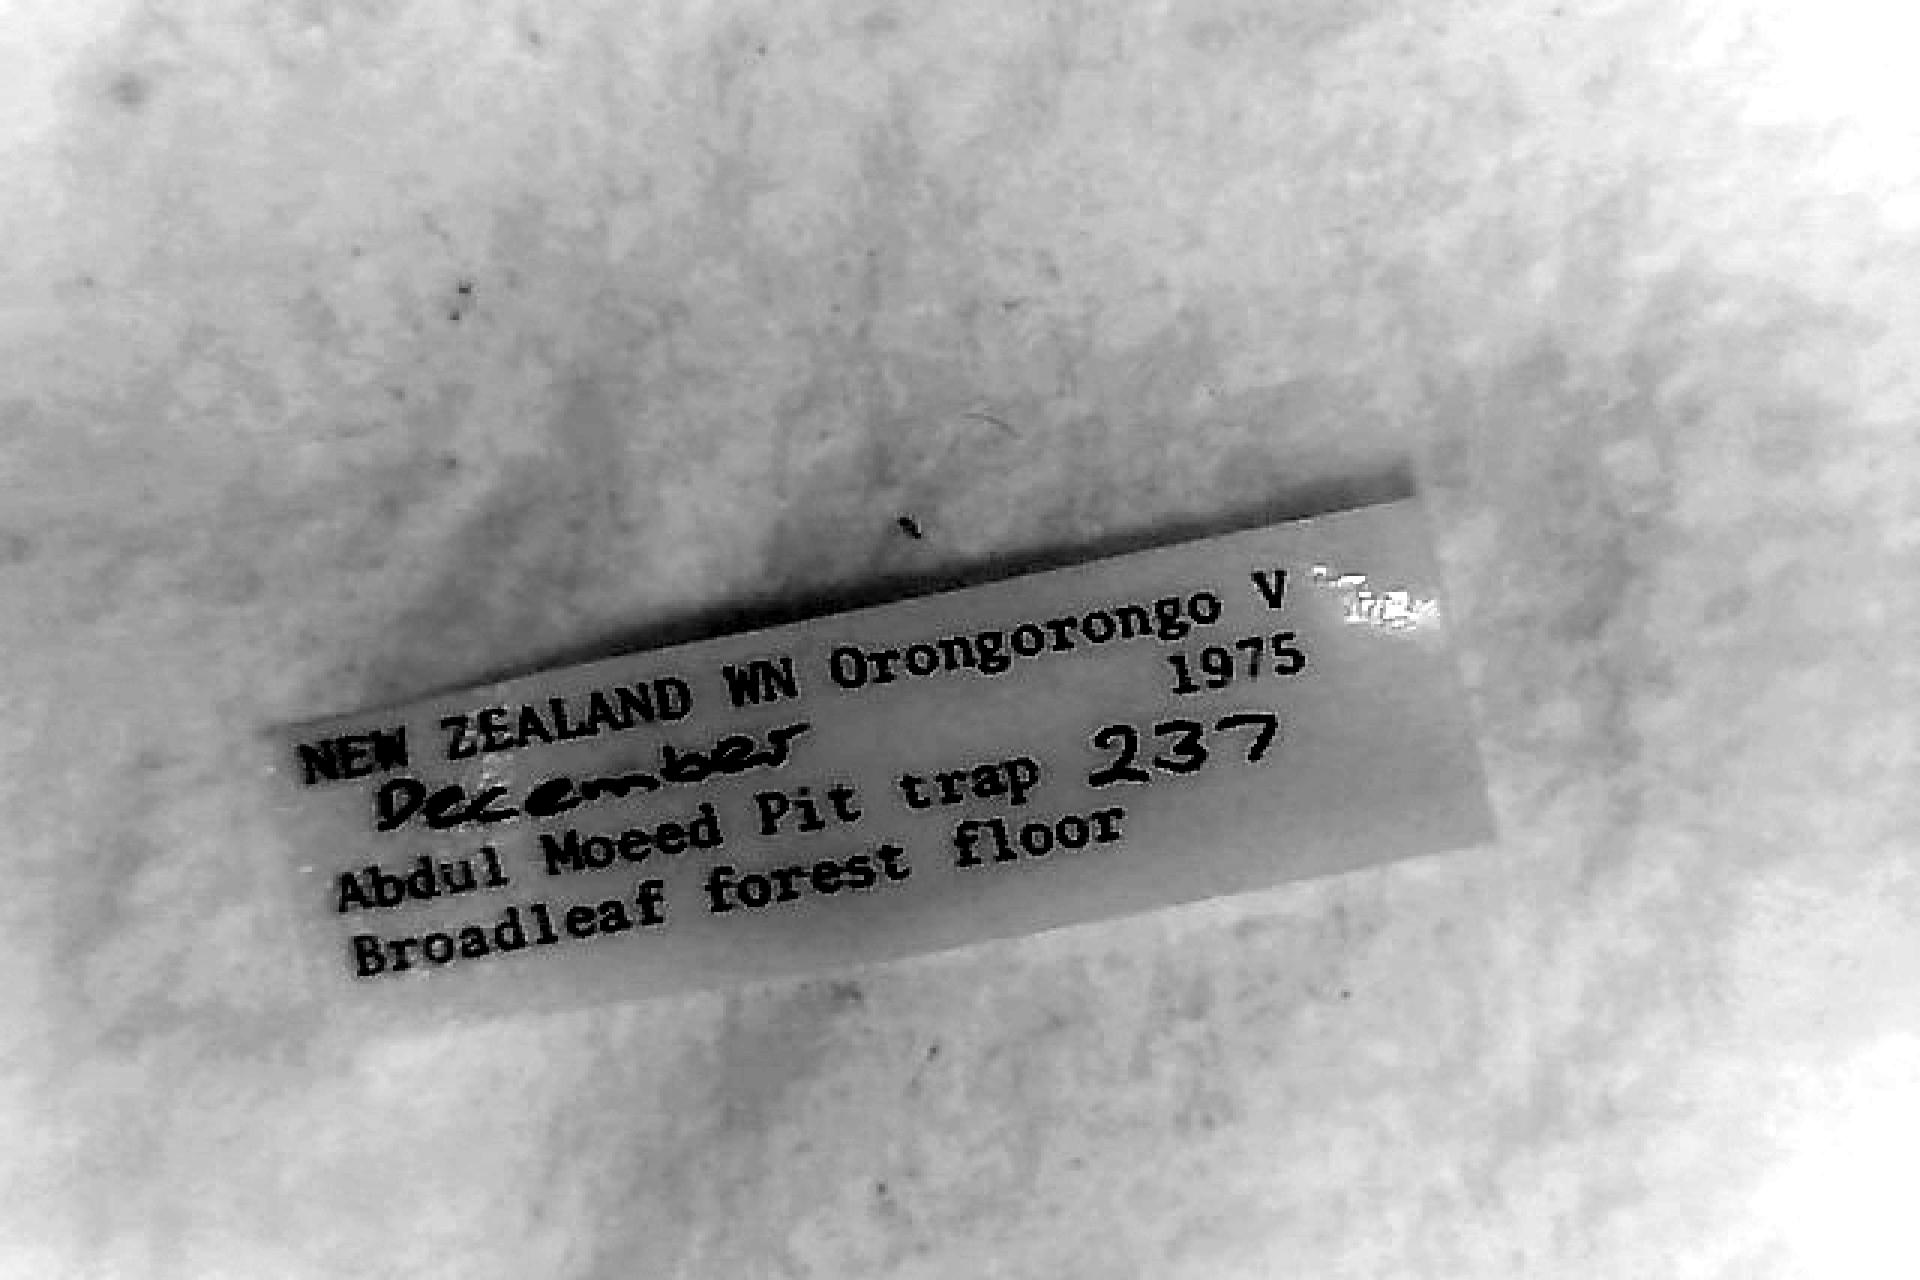mixed_label: (278, 500, 1489, 1013)
